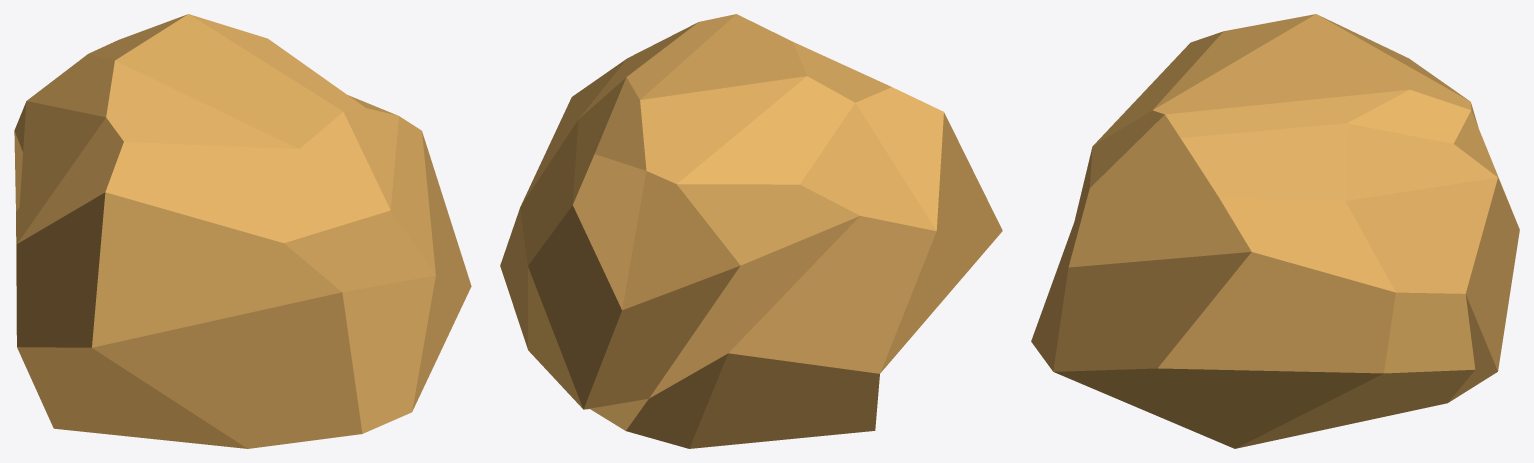
Rendered from stone_6.fbx.
3 views of the same model, side by side, from view 1: azimuth 30°, elevation 25°; view 2: azimuth 150°, elevation 25°; view 3: azimuth 270°, elevation 25° (orthographic). The views are drawn at different scales.
Parts seen in each view (by area): view 1: Cube.1772; view 2: Cube.1772; view 3: Cube.1772.
Boxes of the visible parts, left/top/right/bottom form: Cube.1772: left=14, top=14, right=471, bottom=448; Cube.1772: left=500, top=14, right=1002, bottom=448; Cube.1772: left=1031, top=14, right=1519, bottom=448.
Size of the model in its own units: 1031 by 875 by 1148.
